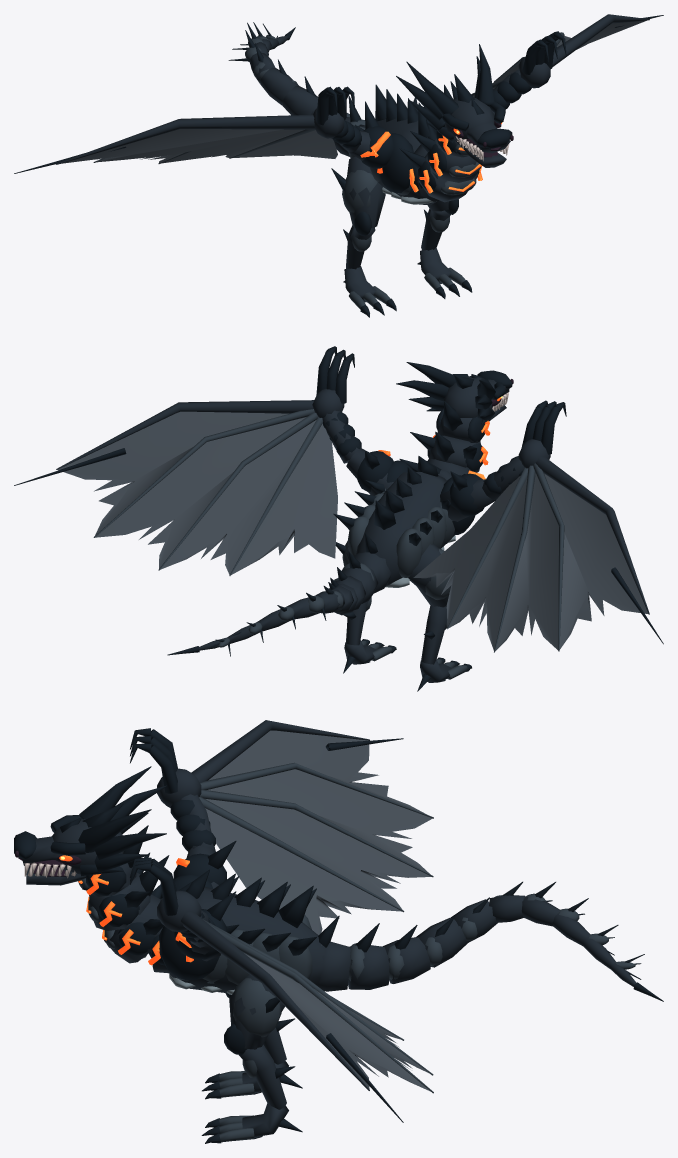
The model's file is Obsidian_West.glb.
3 views of the same model, one above another, from view 1: azimuth 30°, elevation 25°; view 2: azimuth 150°, elevation 25°; view 3: azimuth 270°, elevation 25° (orthographic). The views are drawn at different scales.
Parts seen in each view (by area): view 1: Head, L_Wing_Membrane_1, Torso, L_Leg_Thigh, L_Wing_Membrane_4, Neck_02, Neck_03, L_Wing_Hand, R_Wing_Membrane_1, R_Wing_Hand, L_Wing_UpperArm, R_Foot (+13 smaller); view 2: R_Wing_Membrane_1, L_Wing_Membrane_1, R_Wing_Membrane_2, Torso, R_Wing_Membrane_4, R_Wing_Membrane_3, L_Wing_Membrane_2, L_Wing_Membrane_3, L_Wing_Membrane_4, Head, R_Wing_Hand, L_Wing_Hand (+15 smaller); view 3: Torso, L_Wing_Membrane_2, L_Wing_Membrane_4, L_Wing_Membrane_3, Head, L_Wing_Membrane_1, R_Wing_Membrane_1, R_Leg_Thigh, Neck_03, L_Wing_Hand, Neck_02, R_Wing_Membrane_2 (+21 smaller).
Boxes of the visible parts, x1,y1,x2,y2 form: Head: (396, 44, 513, 161); L_Wing_Membrane_1: (14, 114, 315, 173); Torso: (349, 84, 436, 205); L_Leg_Thigh: (331, 156, 385, 236); L_Wing_Membrane_4: (229, 129, 337, 158); Neck_02: (399, 119, 482, 202); Neck_03: (410, 131, 481, 182); L_Wing_Hand: (313, 86, 354, 138); R_Wing_Membrane_1: (552, 14, 663, 67); R_Wing_Hand: (518, 31, 566, 88); L_Wing_UpperArm: (349, 102, 394, 169); R_Foot: (417, 247, 472, 298); R_Wing_Membrane_1: (14, 400, 314, 535); L_Wing_Membrane_1: (535, 456, 663, 649); R_Wing_Membrane_2: (93, 409, 314, 568); Torso: (333, 456, 475, 587); R_Wing_Membrane_4: (229, 417, 337, 575); R_Wing_Membrane_3: (158, 412, 318, 574); L_Wing_Membrane_2: (495, 463, 564, 651); L_Wing_Membrane_3: (449, 465, 535, 652); L_Wing_Membrane_4: (413, 467, 528, 629); Head: (396, 362, 513, 424); R_Wing_Hand: (312, 346, 354, 418); L_Wing_Hand: (518, 400, 566, 468); Torso: (159, 869, 326, 994); L_Wing_Membrane_2: (200, 762, 433, 874); L_Wing_Membrane_4: (199, 796, 404, 935); L_Wing_Membrane_3: (200, 789, 433, 909); Head: (14, 766, 166, 878); L_Wing_Membrane_1: (191, 720, 426, 814); R_Wing_Membrane_1: (181, 911, 431, 1122); R_Leg_Thigh: (224, 974, 284, 1054); Neck_03: (86, 852, 169, 930); L_Wing_Hand: (130, 728, 201, 807); Neck_02: (102, 882, 192, 963); R_Wing_Membrane_2: (205, 921, 433, 1093).
Size of the model in its own units: 19.29 by 7.65 by 13.79.
1 material, 1 textured.
